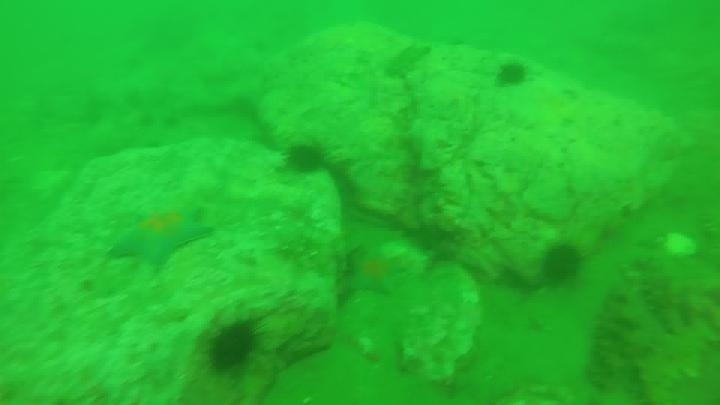echinus: (204, 318, 261, 375), (539, 241, 584, 287), (282, 140, 328, 177), (494, 59, 530, 90)
holothurian: (584, 287, 656, 396), (632, 256, 681, 336), (382, 41, 433, 81)
starfish: (106, 203, 215, 270), (345, 246, 407, 298)
